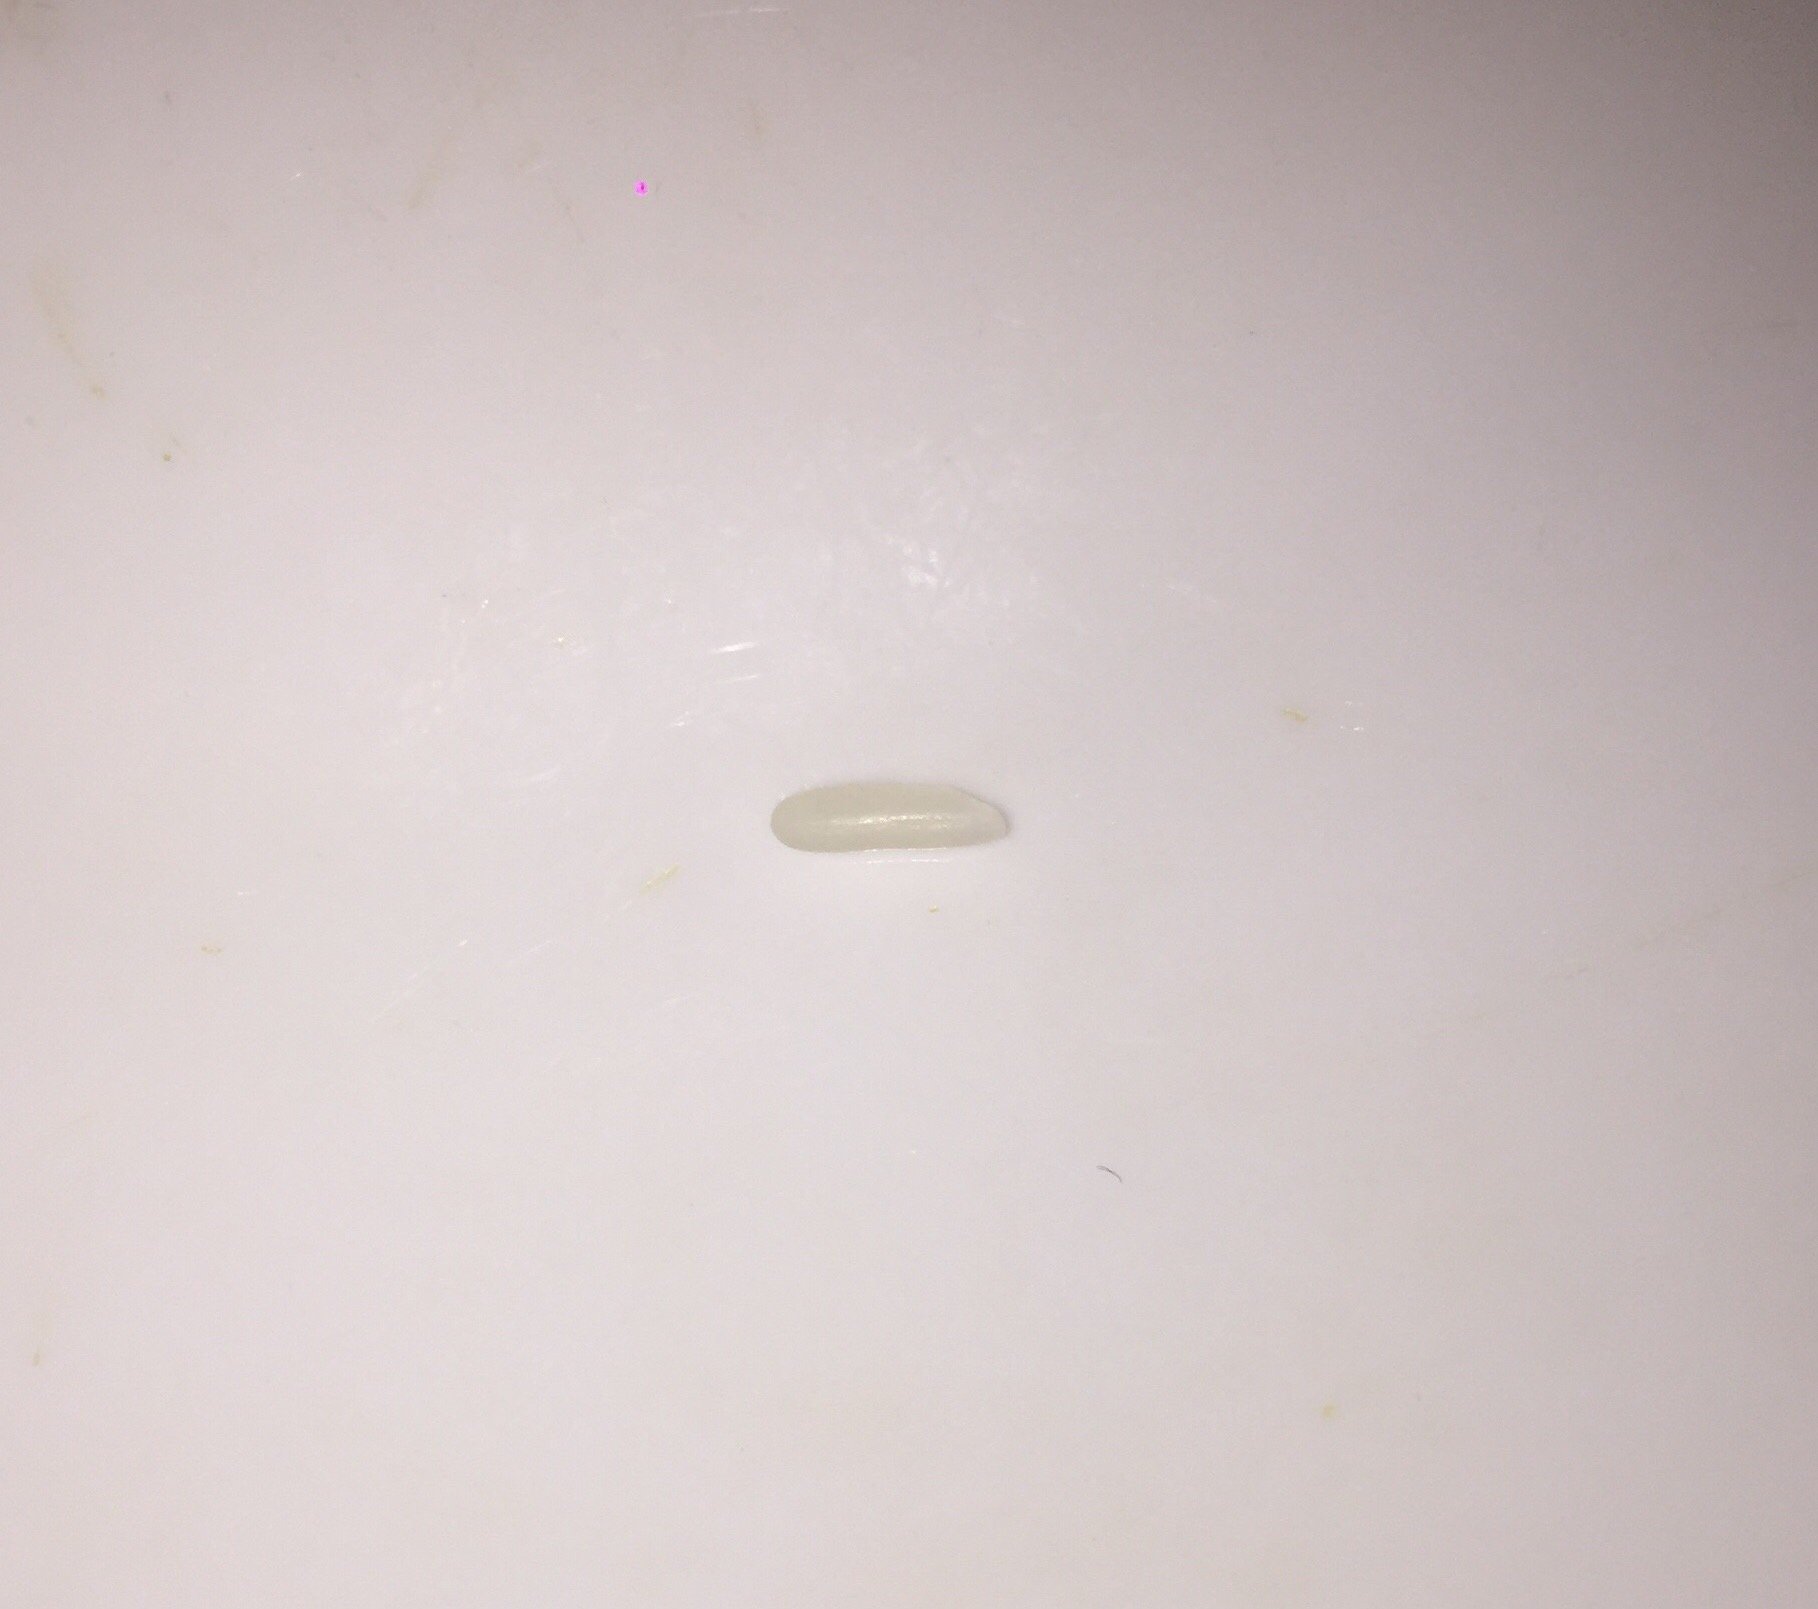Gao Ngoc Troi: (772, 753, 1034, 877)
